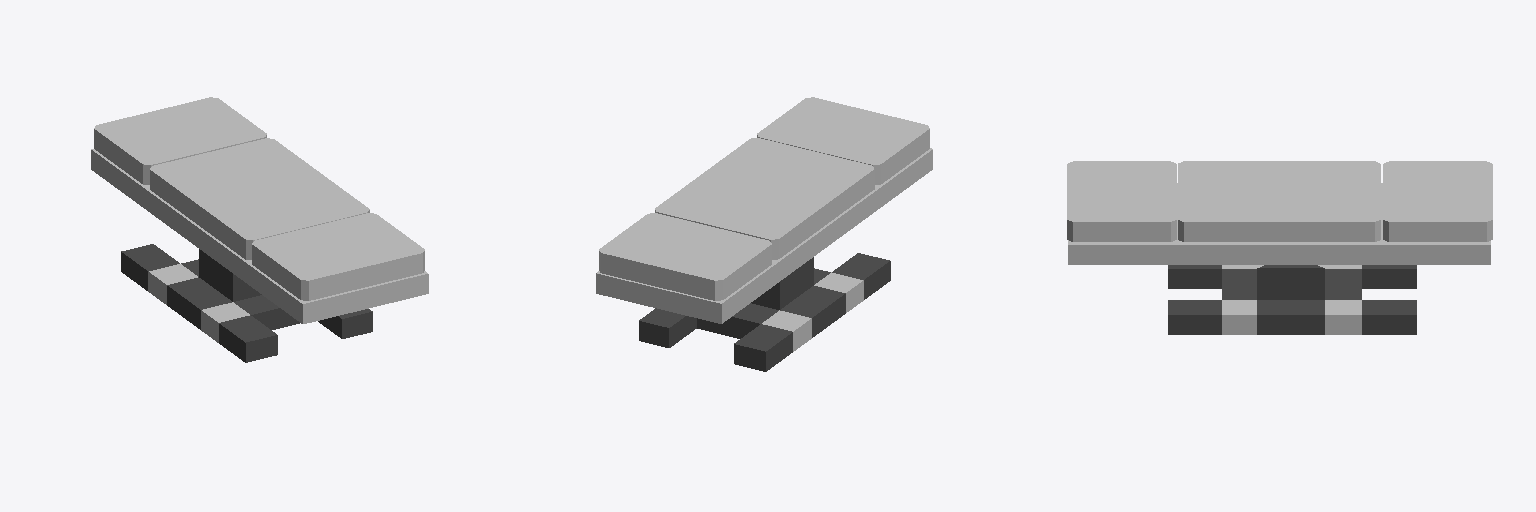
File: bed.obj
The picture shows the model from 3 angles: view 1: azimuth 30°, elevation 25°; view 2: azimuth 150°, elevation 25°; view 3: azimuth 270°, elevation 25°; orthographic projection.
Visible parts, largest first — view 1: Plane; view 2: Plane; view 3: Plane.
Boxes of the visible parts, <box> form: Plane: <box>91,97,428,362</box>; Plane: <box>596,97,932,371</box>; Plane: <box>1067,161,1492,334</box>.
Size of the model in its own units: 1.57 by 1.49 by 4.36.